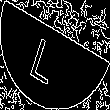L_NE: (37, 26, 73, 84)
